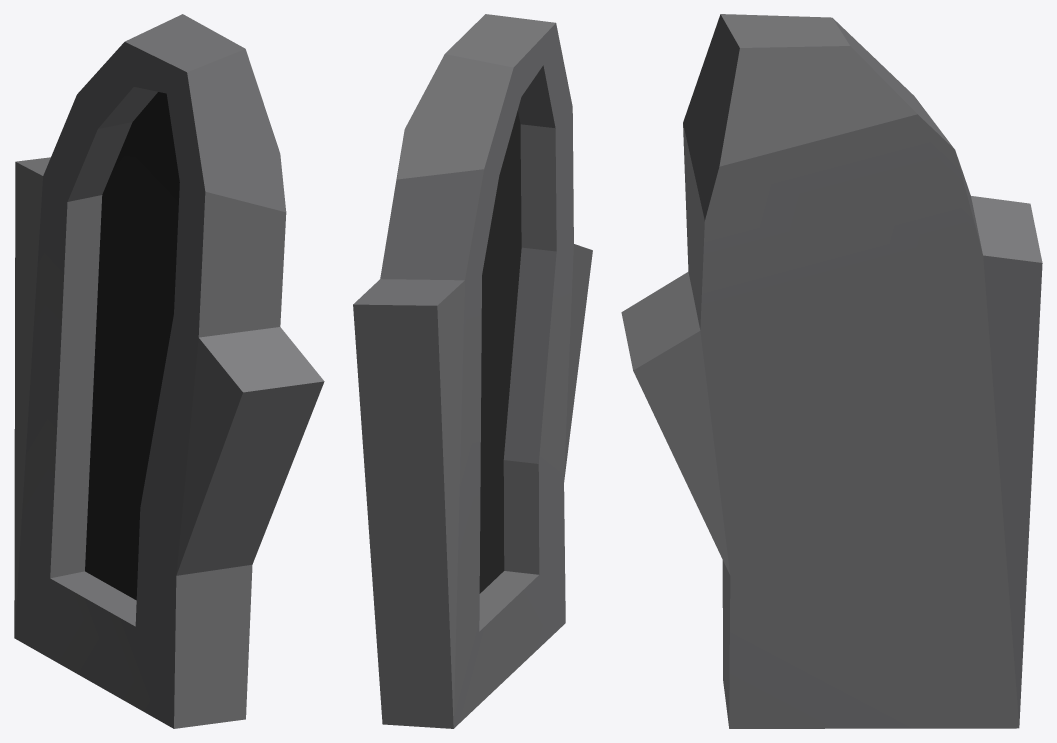
Rendered from ea_grave_stone_mini_01b_pre__1__lev1.glb.
3 renders of one model, left to right at view 1: azimuth 30°, elevation 25°; view 2: azimuth 150°, elevation 25°; view 3: azimuth 270°, elevation 25°, orthographic. The views are drawn at different scales.
Visible parts, largest first — view 1: ea_grave_stone_mini_01b_pre__1__lev1; view 2: ea_grave_stone_mini_01b_pre__1__lev1; view 3: ea_grave_stone_mini_01b_pre__1__lev1.
Boxes of the visible parts, bbox=[...] form: ea_grave_stone_mini_01b_pre__1__lev1: bbox=[14, 14, 324, 728]; ea_grave_stone_mini_01b_pre__1__lev1: bbox=[353, 14, 592, 728]; ea_grave_stone_mini_01b_pre__1__lev1: bbox=[621, 14, 1042, 728].
Size of the model in its own units: 0.3322 by 1.71 by 0.9437.
Materials: 1 (1 with a texture image).
